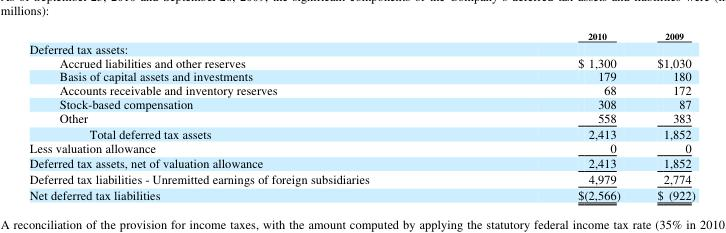table: (28, 28, 694, 202)
table column: (28, 28, 473, 202), (473, 28, 638, 202), (638, 28, 694, 202)
table column header: (28, 28, 694, 40)
table projected row header: (28, 40, 694, 54)
table row: (28, 154, 694, 170), (28, 170, 694, 186), (28, 186, 694, 202), (28, 110, 694, 125), (28, 139, 694, 154), (28, 40, 694, 54), (28, 54, 694, 68), (28, 68, 694, 82), (28, 82, 694, 96), (28, 96, 694, 110), (28, 125, 694, 139), (28, 28, 694, 40)
